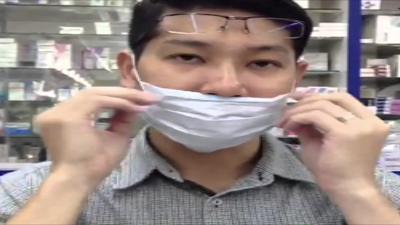mask_weared_incorrect: (136, 37, 300, 154)
